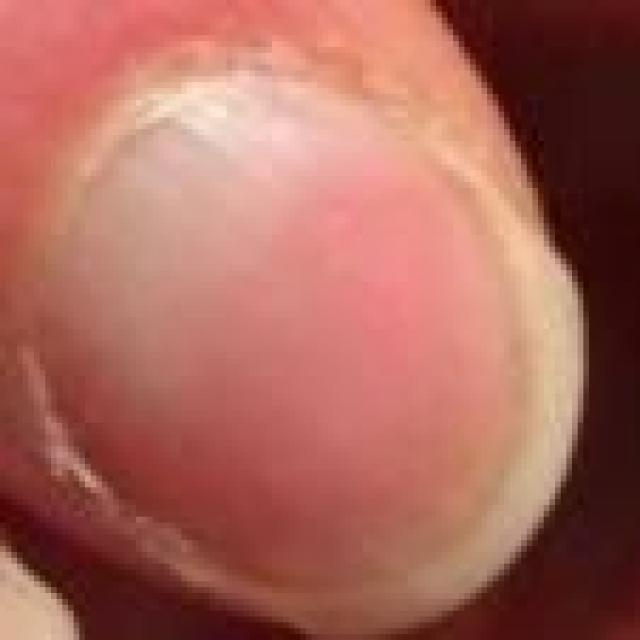Nail: (47, 71, 591, 640)
